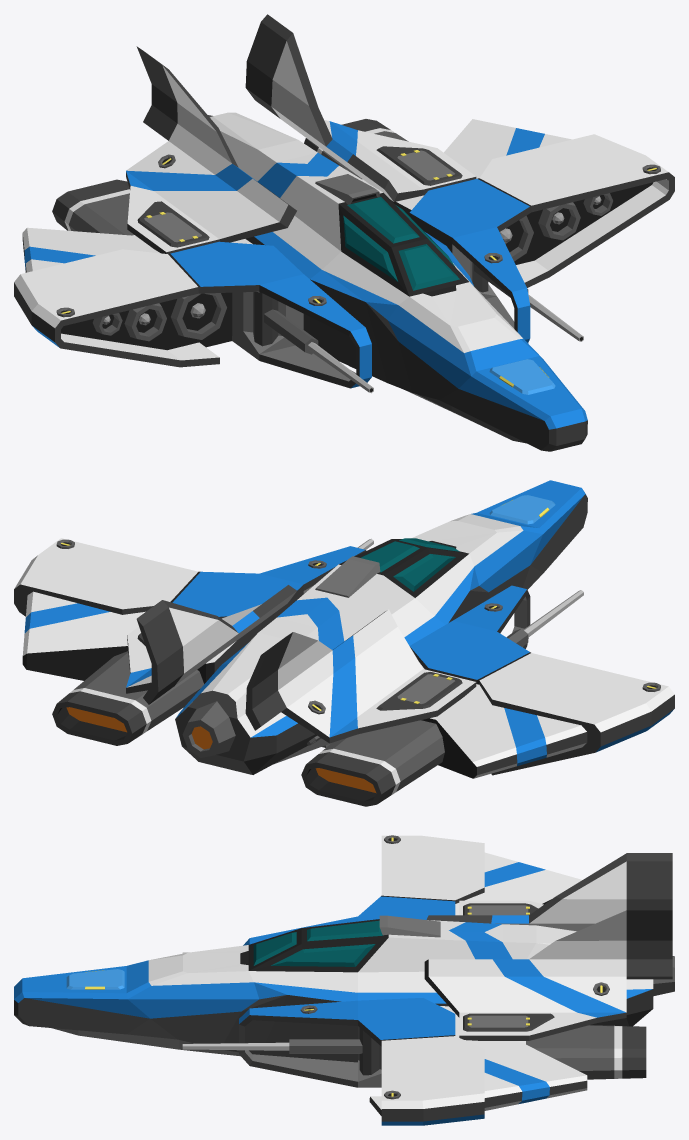
File: starship_003.fbx
3 renders of one model, top to bottom at view 1: azimuth 30°, elevation 25°; view 2: azimuth 150°, elevation 25°; view 3: azimuth 270°, elevation 25°, orthographic. The views are drawn at different scales.
Parts seen in each view (by area): view 1: starship_003; view 2: starship_003; view 3: starship_003.
Boxes of the visible parts, x1,y1,x2,y2 form: starship_003: (14, 14, 674, 451); starship_003: (14, 480, 674, 806); starship_003: (14, 835, 674, 1125).
Size of the model in its own units: 1395 by 1442 by 396.
